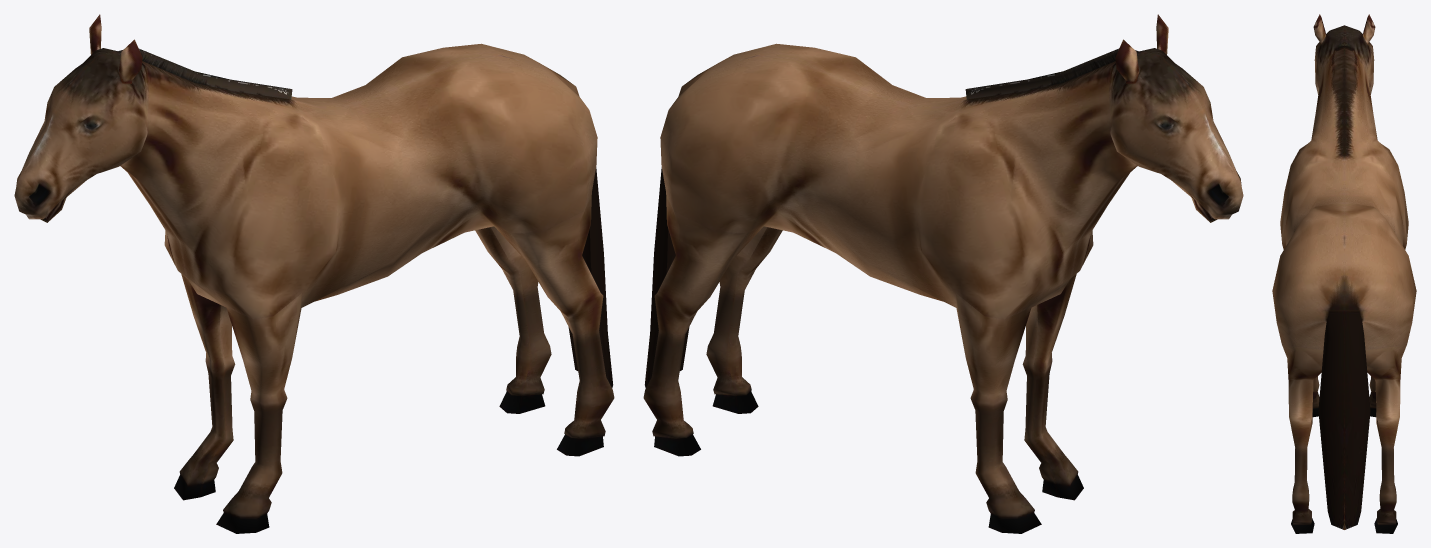
Rendered from Horse.glb.
3 renders of one model, left to right at view 1: azimuth 30°, elevation 25°; view 2: azimuth 150°, elevation 25°; view 3: azimuth 270°, elevation 25°, orthographic. The views are drawn at different scales.
Visible parts, largest first — view 1: Plane.002; view 2: Plane.002; view 3: Plane.002.
Boxes of the visible parts, x1,y1,x2,y2 form: Plane.002: (14, 14, 614, 533); Plane.002: (643, 14, 1243, 533); Plane.002: (1272, 14, 1416, 533).
Size of the model in its own units: 2.11 by 1.7 by 0.6142.
Materials: 1 (1 with a texture image).
